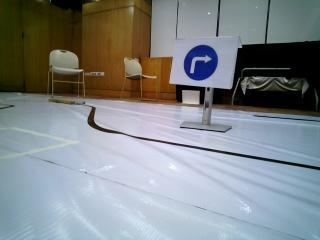right: (180, 37, 225, 84)
